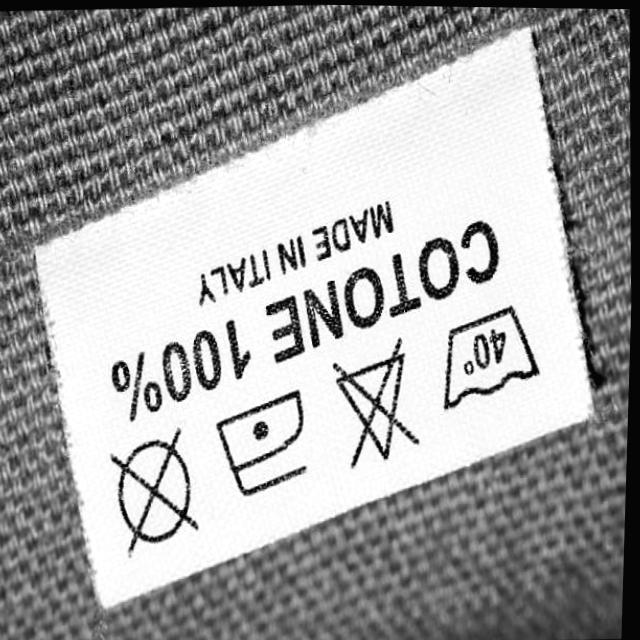40C: (441, 310, 541, 408)
DN_bleach: (323, 337, 422, 470)
DN_dry_clean: (104, 421, 200, 557)
iron_low: (210, 383, 319, 502)
